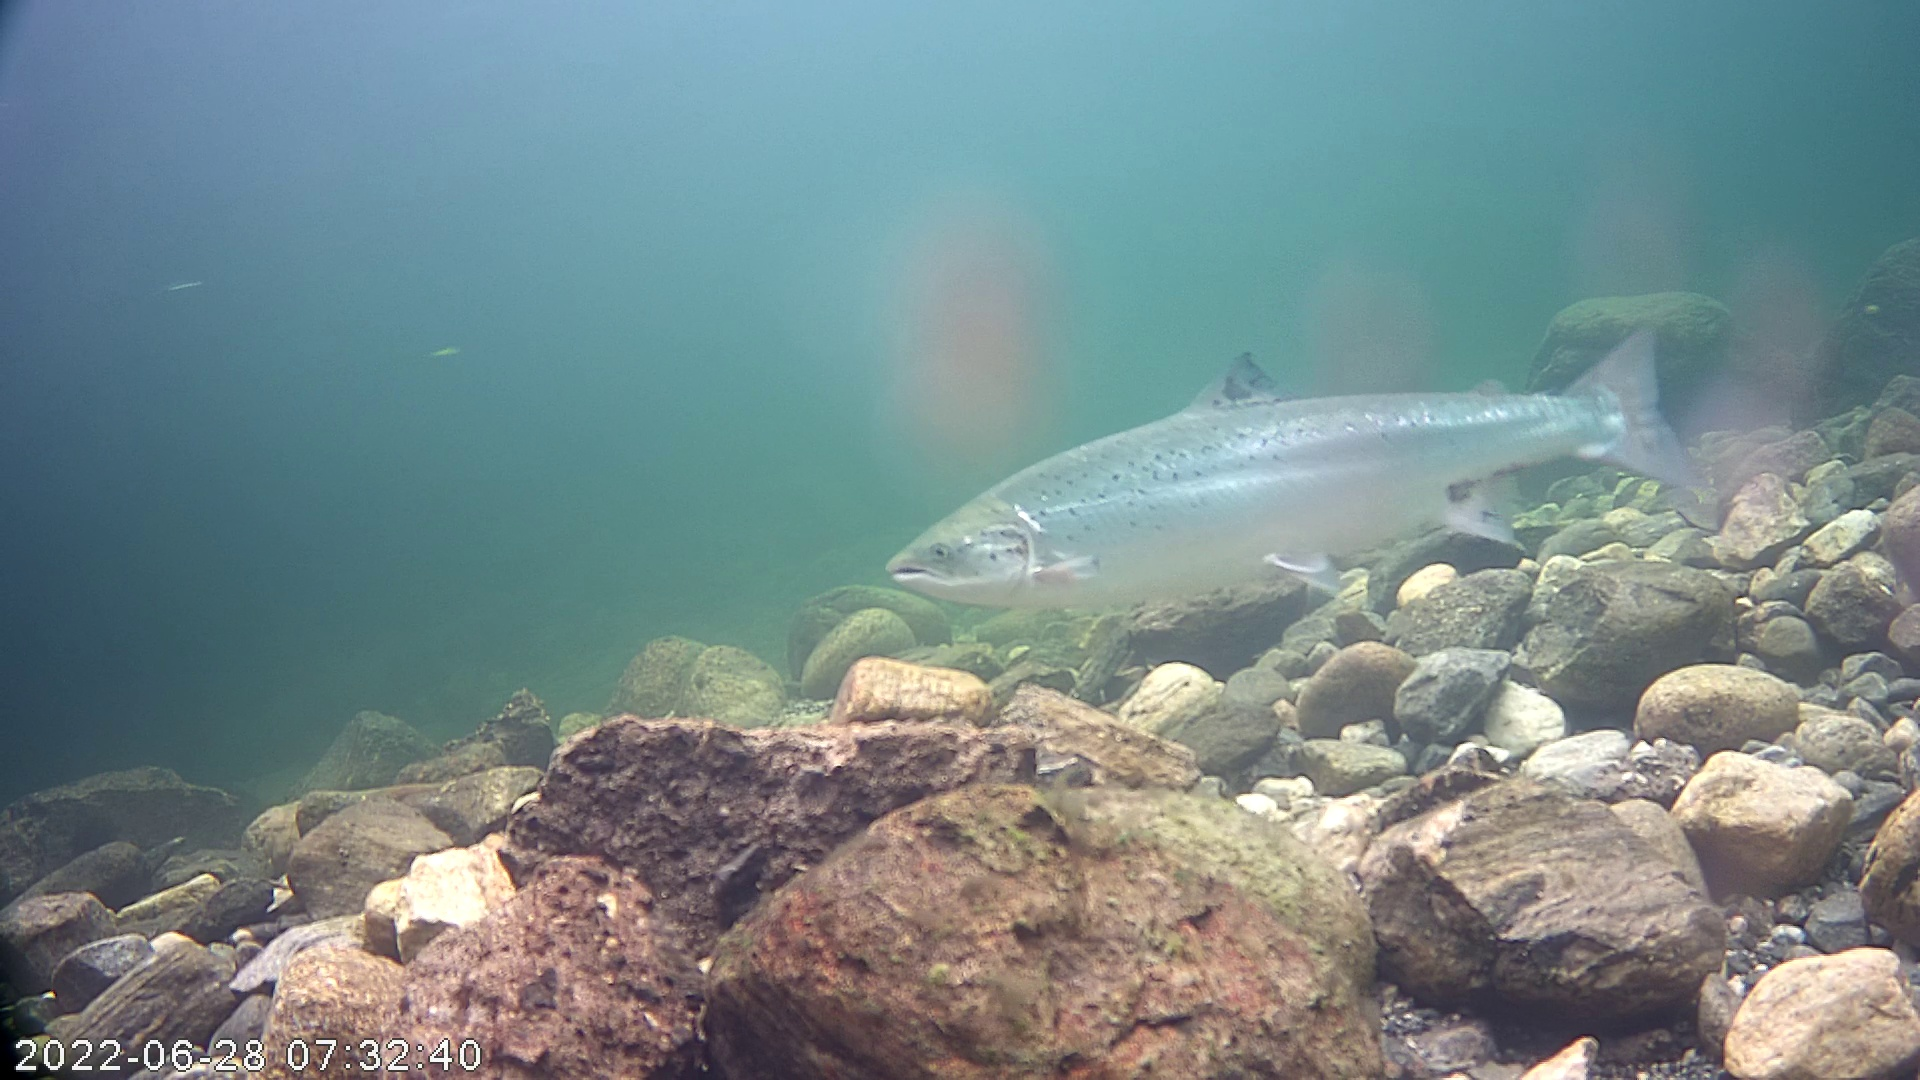salmon: (874, 245, 1727, 665)
